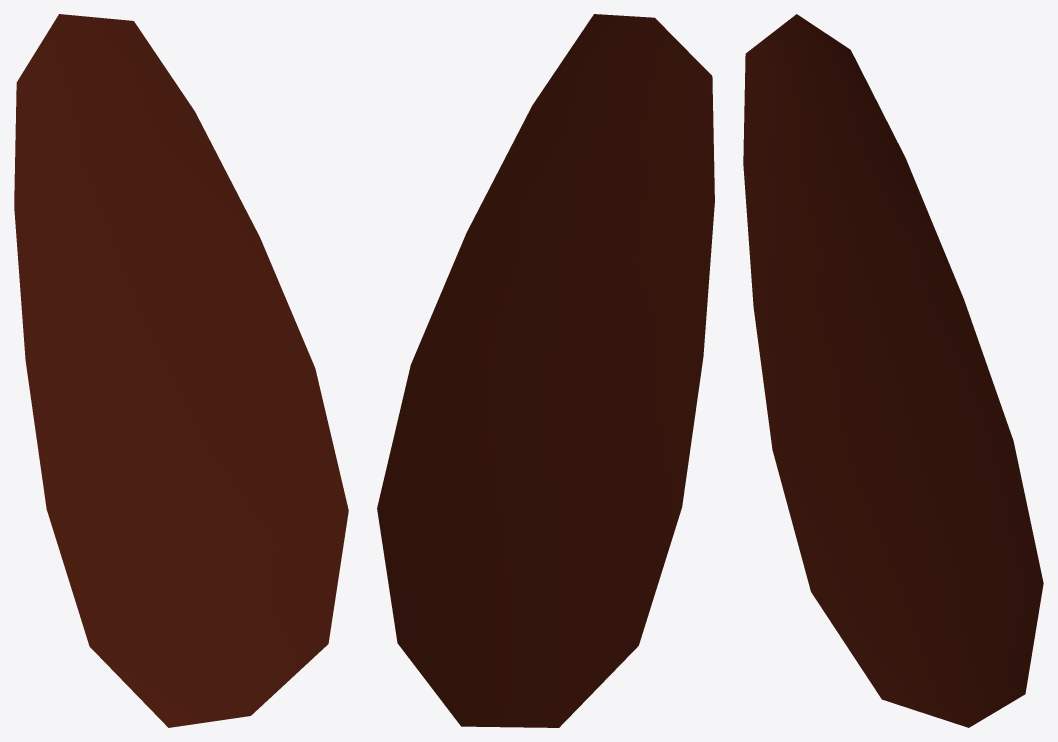
File: finch_feather_flight_tertiary_049.obj
The picture shows the model from 3 angles, left to right: view 1: azimuth 30°, elevation 25°; view 2: azimuth 150°, elevation 25°; view 3: azimuth 330°, elevation 25°; orthographic projection. The views are drawn at different scales.
Visible parts, largest first — view 1: feather_flight_tertiary_049; view 2: feather_flight_tertiary_049; view 3: feather_flight_tertiary_049.
Boxes of the visible parts, x1,y1,x2,y2 form: feather_flight_tertiary_049: [14, 14, 348, 727]; feather_flight_tertiary_049: [377, 14, 714, 727]; feather_flight_tertiary_049: [743, 14, 1043, 727].
Bounding box in the file's own units: 0.00406 × 0.00869 × 0.000153.
